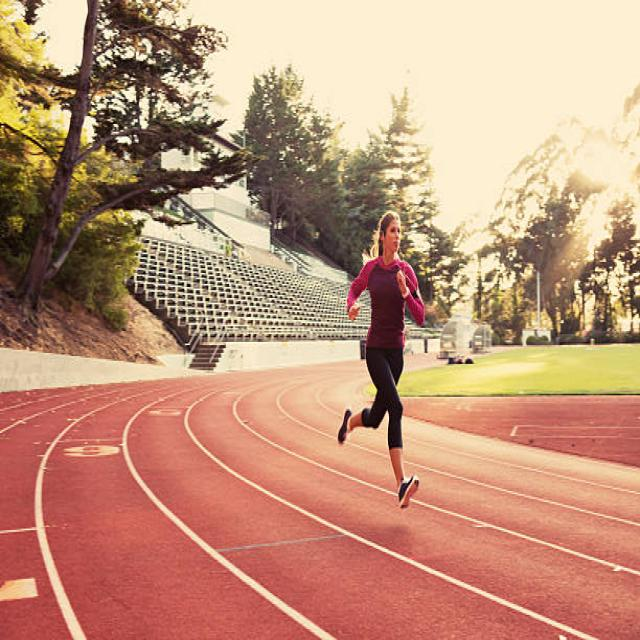running: (333, 208, 430, 510)
